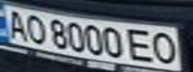0: (81, 22, 106, 56), (103, 25, 127, 60), (63, 20, 84, 53)
8: (45, 17, 69, 50)
A: (3, 7, 30, 40)
E: (124, 26, 157, 63)
O: (148, 29, 184, 65), (21, 12, 48, 45)
